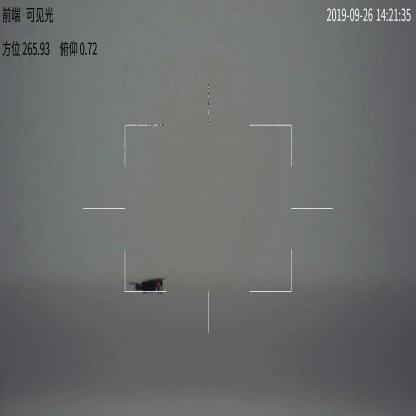uav: (128, 272, 170, 297)
